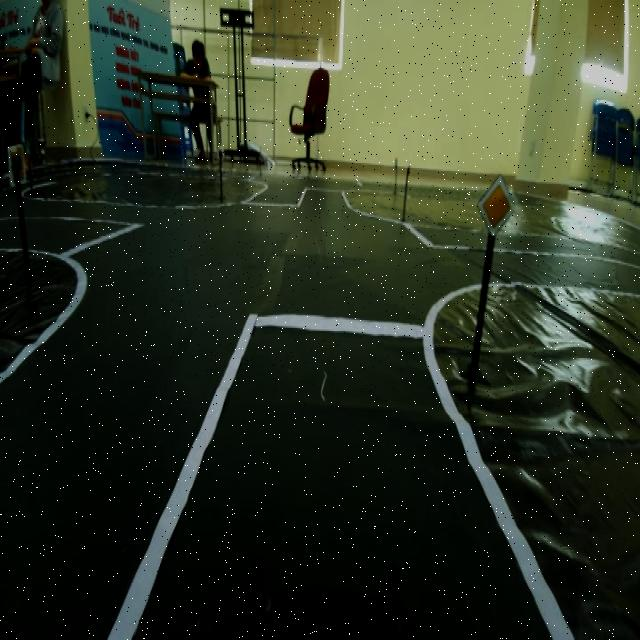priority: (469, 170, 516, 245)
